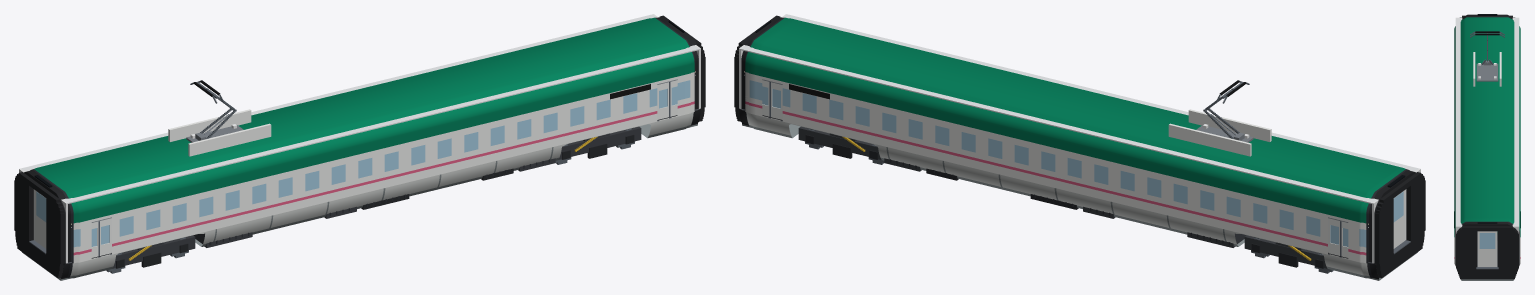
Rendered from e5_car.obj.
3 renders of one model, left to right at view 1: azimuth 30°, elevation 25°; view 2: azimuth 150°, elevation 25°; view 3: azimuth 270°, elevation 25°, orthographic. The views are drawn at different scales.
Visible parts, largest first — view 1: SHELL, SHELL_ceiling, SHELL_diaphragm, SHELL_pantograph, BOGEY_FRONT, BOGEY_REAR, FRAME, SHELL_end, CONNECTING_DOOR_1_CG_CR_TOGGLE_TL_0.98_Z, EXTERNAL_DOOR_10_CG_DR2_TOGGLE_TL_-0.44_X, EXTERNAL_DOOR_5_CG_DR1_TOGGLE_TL_0.44_X; view 2: SHELL, SHELL_ceiling, SHELL_diaphragm, SHELL_pantograph, BOGEY_FRONT, BOGEY_REAR, FRAME, SHELL_end, CONNECTING_DOOR_1_CG_CR_TOGGLE_TL_0.98_Z, EXTERNAL_DOOR_13_CG_DL2_TOGGLE_TL_-0.44_X, EXTERNAL_DOOR_8_CG_DL1_TOGGLE_TL_0.44_X; view 3: SHELL, SHELL_ceiling, SHELL_diaphragm, SHELL_pantograph, CONNECTING_DOOR_2_CG_CF_TOGGLE_TL_0.98_Z, SHELL_end, SHELL_floor.
Part boxes in pixels (box(x1,y1,x2,y2)): SHELL: box(22, 16, 701, 280); SHELL_ceiling: box(20, 14, 699, 203); SHELL_diaphragm: box(14, 15, 705, 277); SHELL_pantograph: box(168, 80, 271, 156); BOGEY_FRONT: box(558, 126, 641, 159); BOGEY_REAR: box(112, 235, 195, 268); FRAME: box(91, 115, 677, 258); SHELL_end: box(19, 14, 700, 263); CONNECTING_DOOR_1_CG_CR_TOGGLE_TL_0.98_Z: box(35, 190, 46, 248); EXTERNAL_DOOR_10_CG_DR2_TOGGLE_TL_-0.44_X: box(657, 82, 670, 119); EXTERNAL_DOOR_5_CG_DR1_TOGGLE_TL_0.44_X: box(99, 218, 111, 255); SHELL: box(738, 16, 1417, 280); SHELL_ceiling: box(740, 14, 1418, 203); SHELL_diaphragm: box(734, 15, 1425, 277); SHELL_pantograph: box(1168, 80, 1271, 156); BOGEY_FRONT: box(798, 126, 881, 159); BOGEY_REAR: box(1244, 235, 1327, 268); FRAME: box(762, 115, 1348, 258); SHELL_end: box(739, 14, 1420, 263); CONNECTING_DOOR_1_CG_CR_TOGGLE_TL_0.98_Z: box(1393, 190, 1404, 248); EXTERNAL_DOOR_13_CG_DL2_TOGGLE_TL_-0.44_X: box(769, 82, 782, 119); EXTERNAL_DOOR_8_CG_DL1_TOGGLE_TL_0.44_X: box(1328, 218, 1340, 255); SHELL: box(1454, 14, 1520, 280); SHELL_ceiling: box(1455, 18, 1519, 225); SHELL_diaphragm: box(1456, 15, 1518, 279); SHELL_pantograph: box(1470, 31, 1504, 86); CONNECTING_DOOR_2_CG_CF_TOGGLE_TL_0.98_Z: box(1477, 231, 1497, 266); SHELL_end: box(1455, 14, 1519, 266); SHELL_floor: box(1477, 231, 1497, 265).
Bounding box in the file's own units: 25.32 × 5.68 × 3.37.
1 material, 1 textured.
